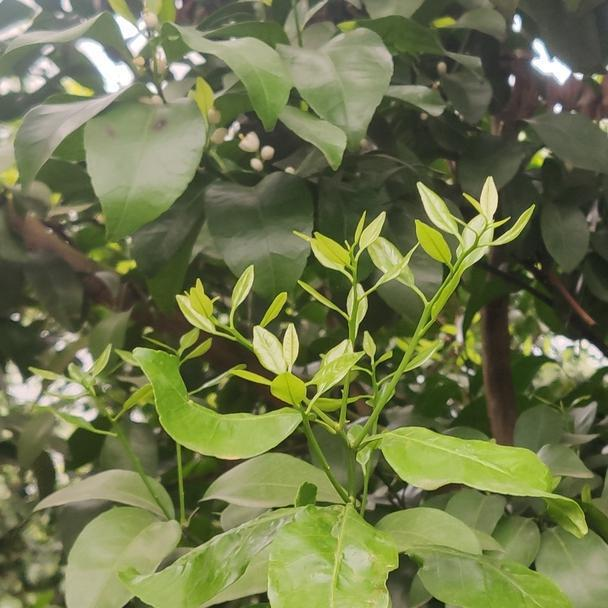shoot: (374, 185, 542, 344), (293, 224, 416, 340), (175, 273, 318, 366), (250, 339, 357, 463), (52, 346, 153, 472)
